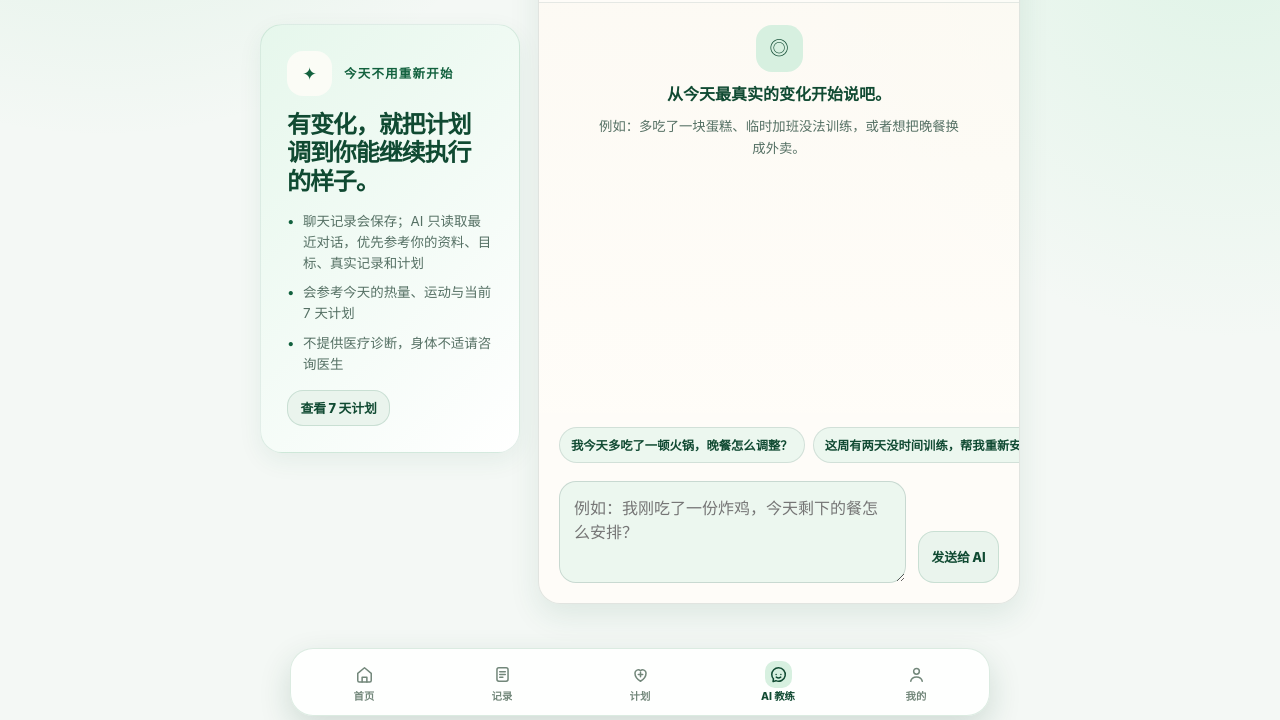
Test: CoachPage › renders AI markdown and confirms an exercise saved from chat
(page scrolled)
Expected: the text "从今天最真实的变化开始说吧。" is shown, [667,81,891,107]
Type "我刚跑了30分钟" into the text box named "告诉 AI 教练你的变化" at (733, 532), box [559,481,906,583]
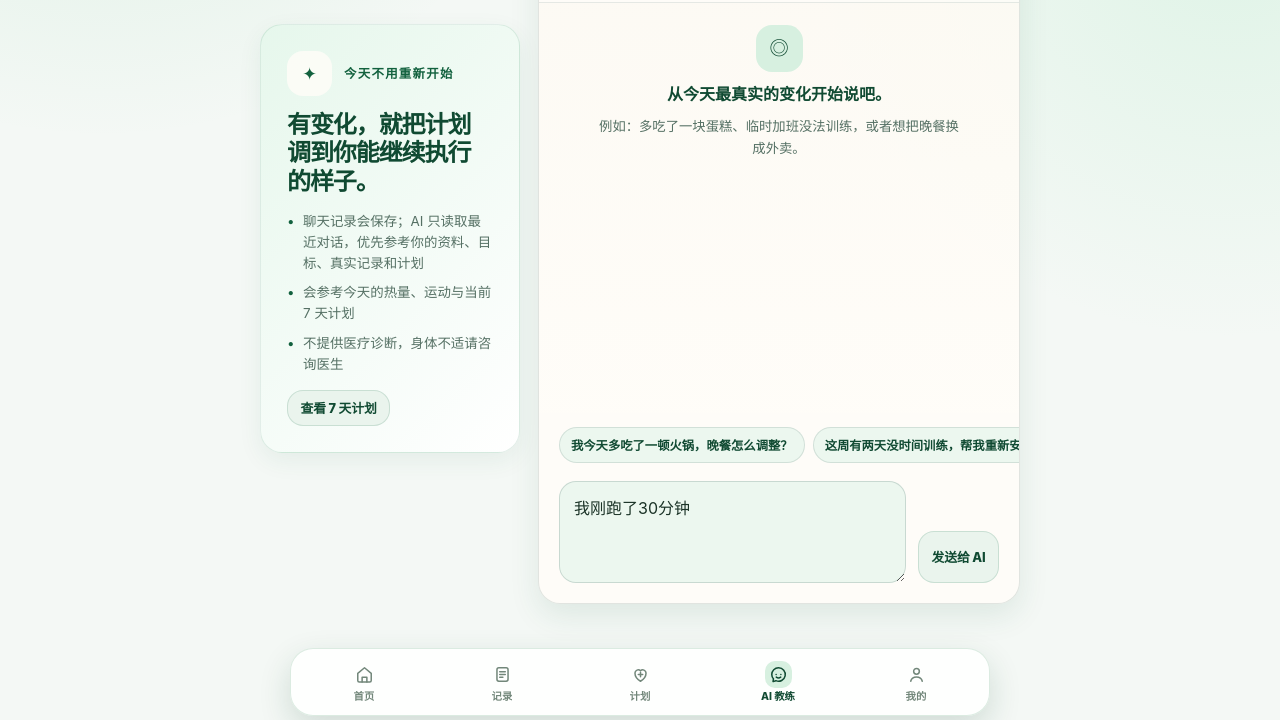
Click the button "发送给 AI" at (959, 557), box [918,531,999,583]
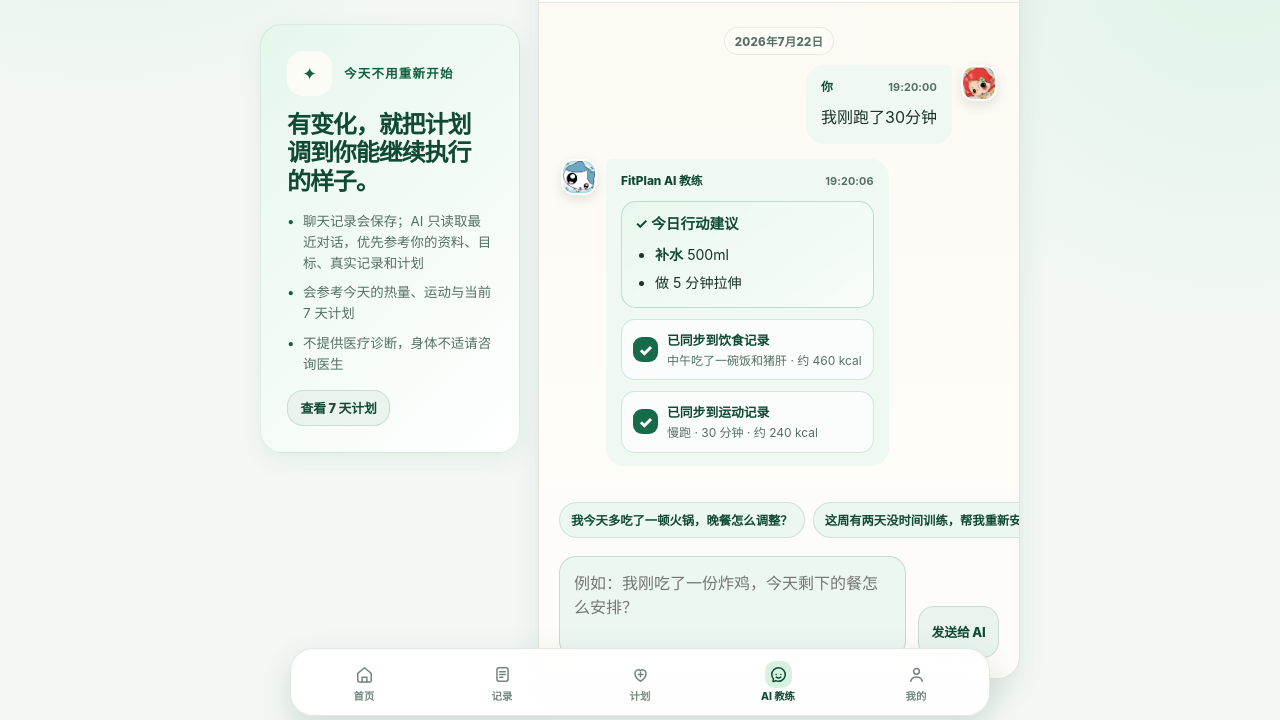
Expected: the text "已同步到饮食记录" is shown, [667,333,769,348]
Expected: the text "中午吃了一碗饭和猪肝 · 约 460 kcal" is shown, [667,352,862,369]
Expected: the text "已同步到运动记录" is shown, [667,405,769,420]
